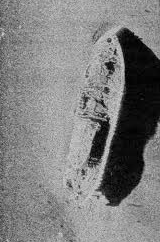ship: (65, 26, 128, 192)
